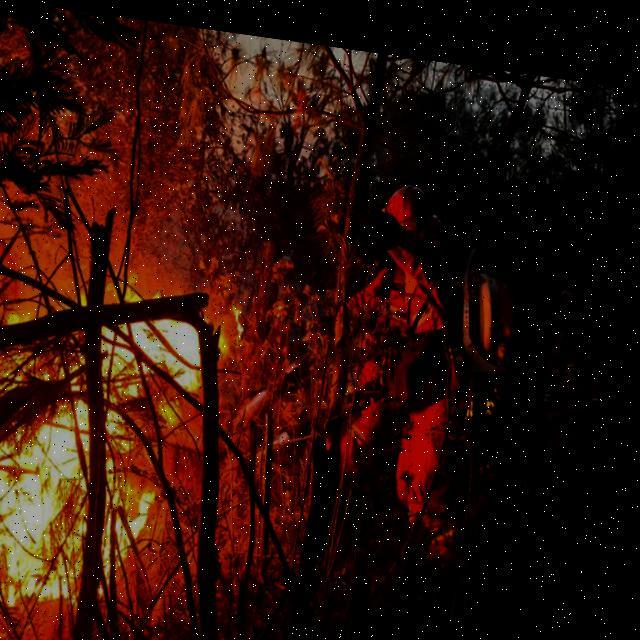Fire: (0, 249, 236, 639)
